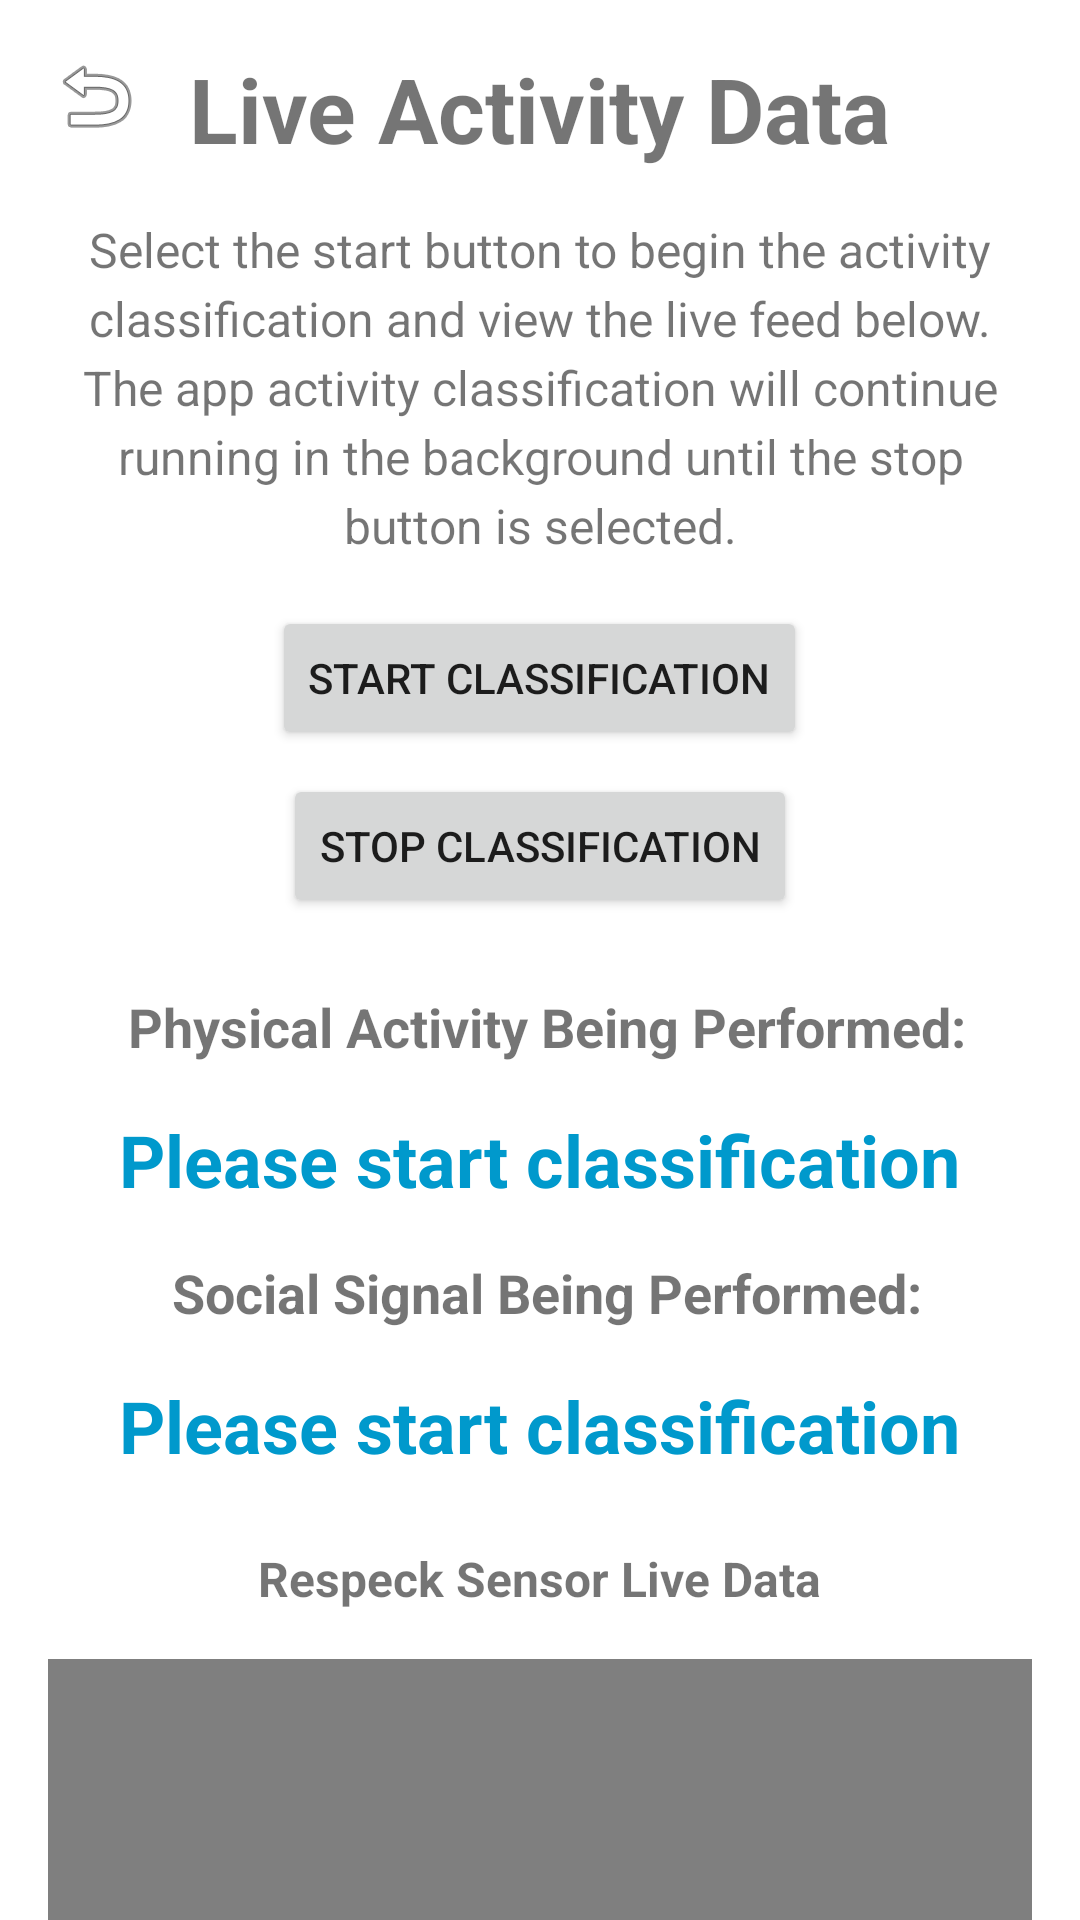

Screen size 1080px×1920px. Icon name, then its center in pixels as (x=x, y=y):
Go Back: (x=97, y=96)
